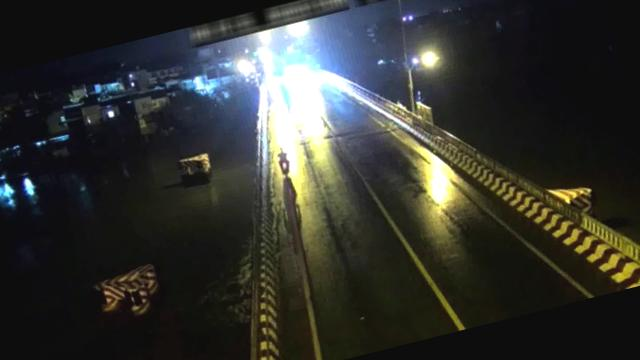Bike: (273, 146, 294, 178)
